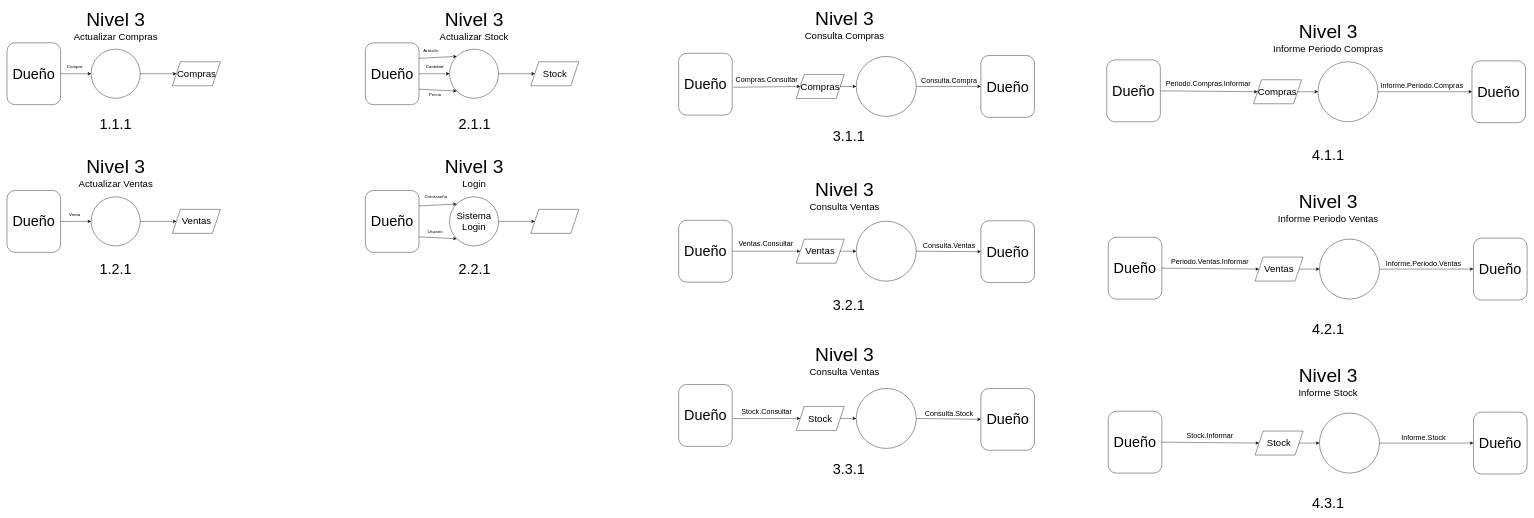
The diagram is 1534 pixels wide and 518 high, and some of its shapes have lost their labels. Here are the shapes that lost their labels. From the top down, the box of each, then its label:
(91, 49, 140, 98): Sistema Actualizar Compras
(449, 49, 499, 98): Sistema Actualizar Stock
(856, 56, 916, 116): Sistema Consulta Compras
(1318, 61, 1378, 122): Sistema Informe Periodo Compras
(91, 196, 140, 246): Sistema Actualizar Ventas
(530, 209, 579, 233): Login
(856, 221, 916, 281): Sistema Consulta Ventas
(1319, 239, 1379, 299): Sistema Informe Periodo Ventas
(856, 388, 916, 448): Sistema Consulta Stock
(1319, 413, 1379, 473): Sistema Informe Stock
